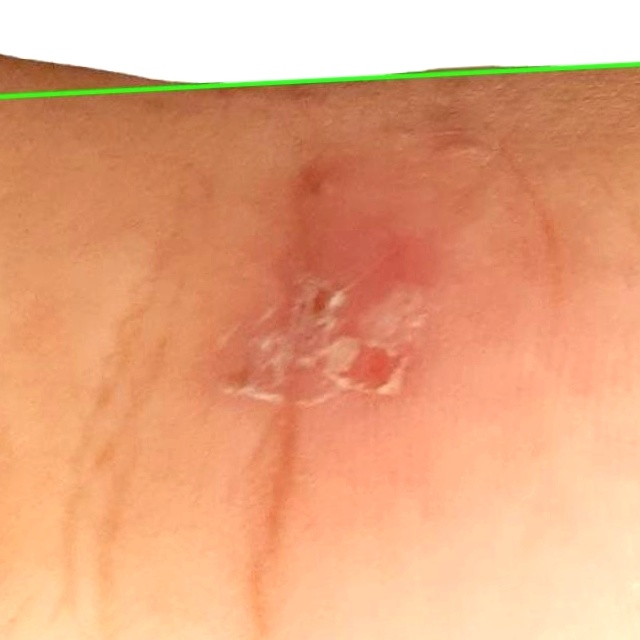Scabies: (0, 0, 639, 96)
